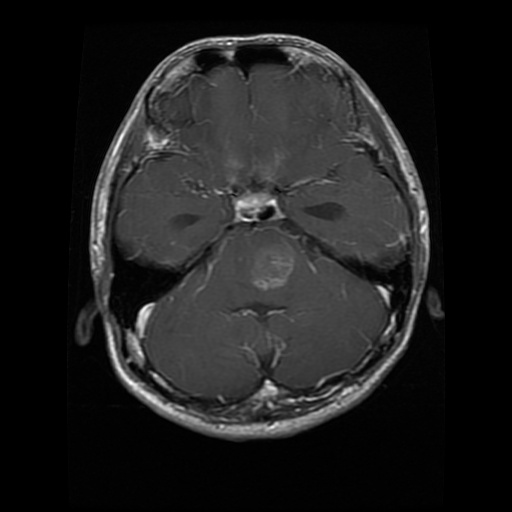glioma: (237, 233, 296, 290)
